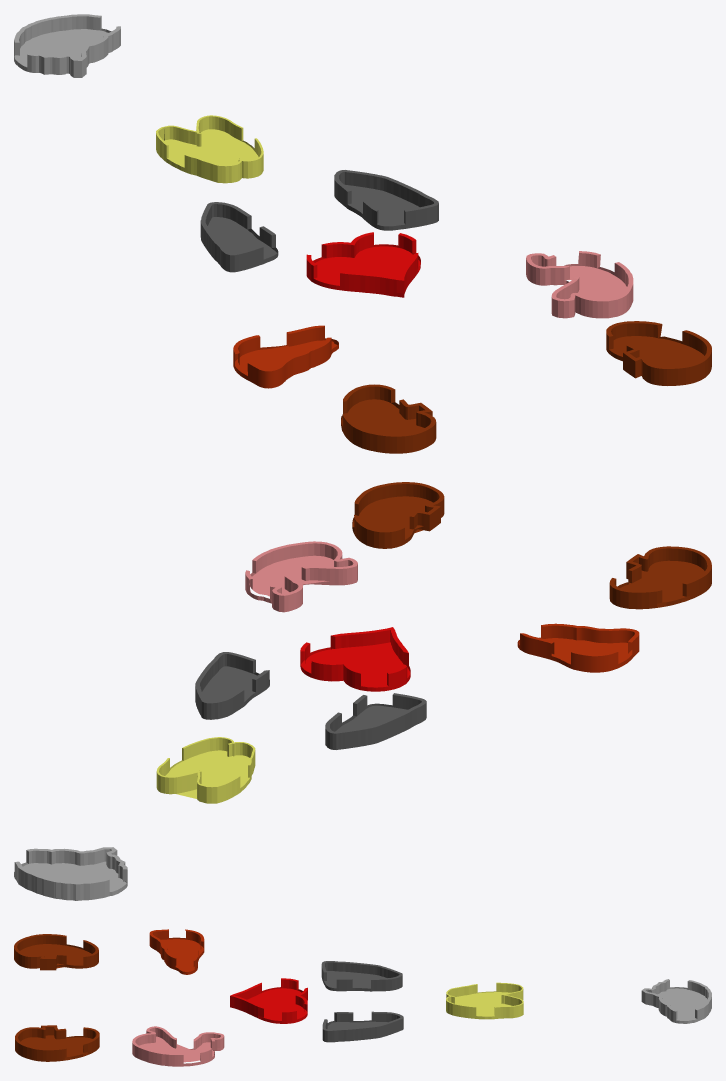
File: Maya_Map_Organs.fbx
The picture shows the model from 3 angles, top to bottom: view 1: azimuth 30°, elevation 25°; view 2: azimuth 150°, elevation 25°; view 3: azimuth 270°, elevation 25°; orthographic projection. The views are drawn at different scales.
Parts seen in each view (by area): view 1: Organ_Heart, Organ_Thymus, Organ_Stomach, Organ_Kidney_Right, Organ_Brain, Organ_Kidney_Left, Organ_Lung_Right, Organ_Liver, Organ_Lung_Left; view 2: Organ_Heart, Organ_Stomach, Organ_Brain, Organ_Kidney_Left, Organ_Thymus, Organ_Kidney_Right, Organ_Liver, Organ_Lung_Left, Organ_Lung_Right; view 3: Organ_Stomach, Organ_Heart, Organ_Kidney_Left, Organ_Kidney_Right, Organ_Thymus, Organ_Brain, Organ_Lung_Left, Organ_Lung_Right, Organ_Liver.
Boxes of the visible parts, <box> form: Organ_Heart: <box>306,232,420,297</box>; Organ_Thymus: <box>156,115,263,183</box>; Organ_Stomach: <box>526,251,633,318</box>; Organ_Kidney_Right: <box>606,321,711,385</box>; Organ_Brain: <box>14,14,120,77</box>; Organ_Kidney_Left: <box>341,384,436,453</box>; Organ_Lung_Right: <box>334,170,438,230</box>; Organ_Liver: <box>233,325,338,388</box>; Organ_Lung_Left: <box>200,202,278,272</box>; Organ_Heart: <box>300,627,410,691</box>; Organ_Stomach: <box>245,541,357,612</box>; Organ_Brain: <box>14,847,127,900</box>; Organ_Kidney_Left: <box>609,546,711,609</box>; Organ_Thymus: <box>156,737,255,803</box>; Organ_Kidney_Right: <box>352,482,444,548</box>; Organ_Liver: <box>517,623,639,672</box>; Organ_Lung_Left: <box>325,693,426,749</box>; Organ_Lung_Right: <box>195,652,269,719</box>; Organ_Stomach: <box>132,1026,224,1066</box>; Organ_Heart: <box>230,978,307,1023</box>; Organ_Kidney_Left: <box>14,934,98,970</box>; Organ_Kidney_Right: <box>15,1025,99,1061</box>; Organ_Thymus: <box>446,982,523,1019</box>; Organ_Brain: <box>641,979,711,1023</box>; Organ_Lung_Left: <box>321,961,402,991</box>; Organ_Lung_Right: <box>322,1011,403,1042</box>; Organ_Liver: <box>149,929,204,974</box>.
Bounding box in the file's own units: 94.02 × 4.04 × 220.
